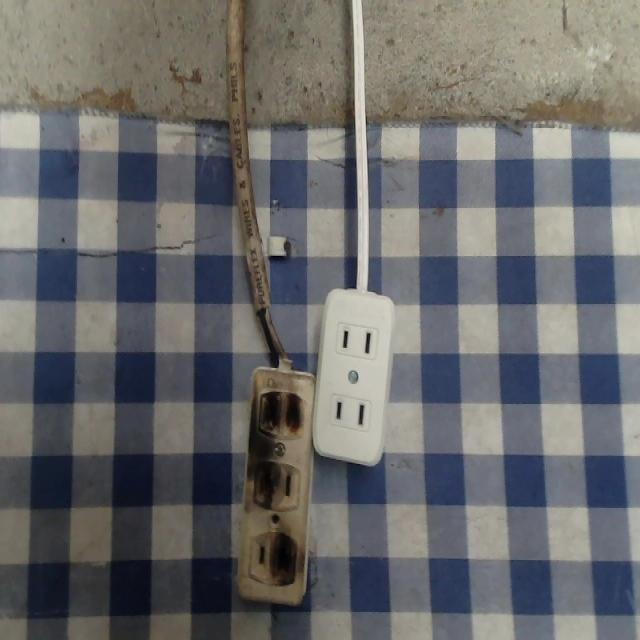-: (251, 380, 305, 443), (266, 525, 311, 592), (242, 459, 280, 508)
